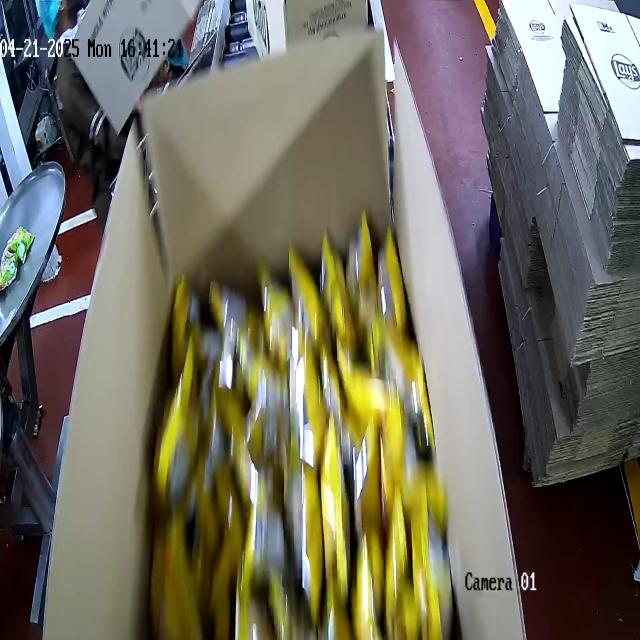SALTED: (147, 249, 439, 640)
